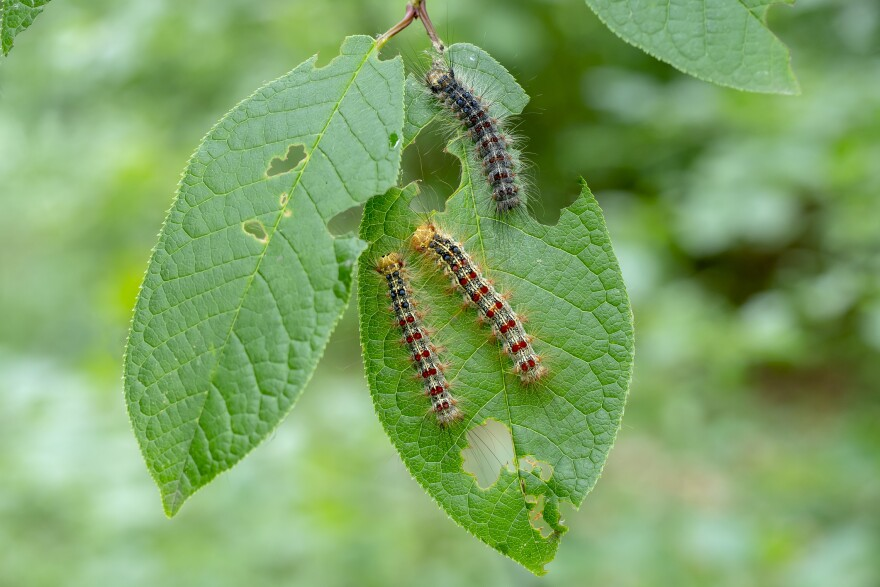Caterpillar: (411, 220, 552, 388), (420, 56, 539, 223), (371, 251, 467, 433)
